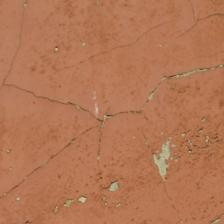Crack: (7, 4, 111, 117), (65, 16, 119, 134), (29, 61, 79, 160)
